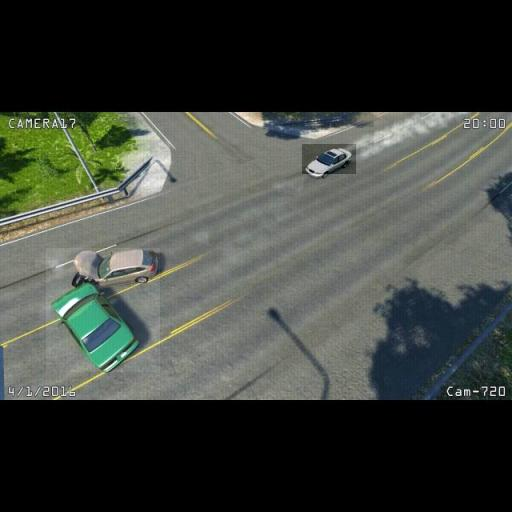小汽车: (302, 144, 356, 174)
小汽车撞小汽车: (46, 248, 160, 372)
